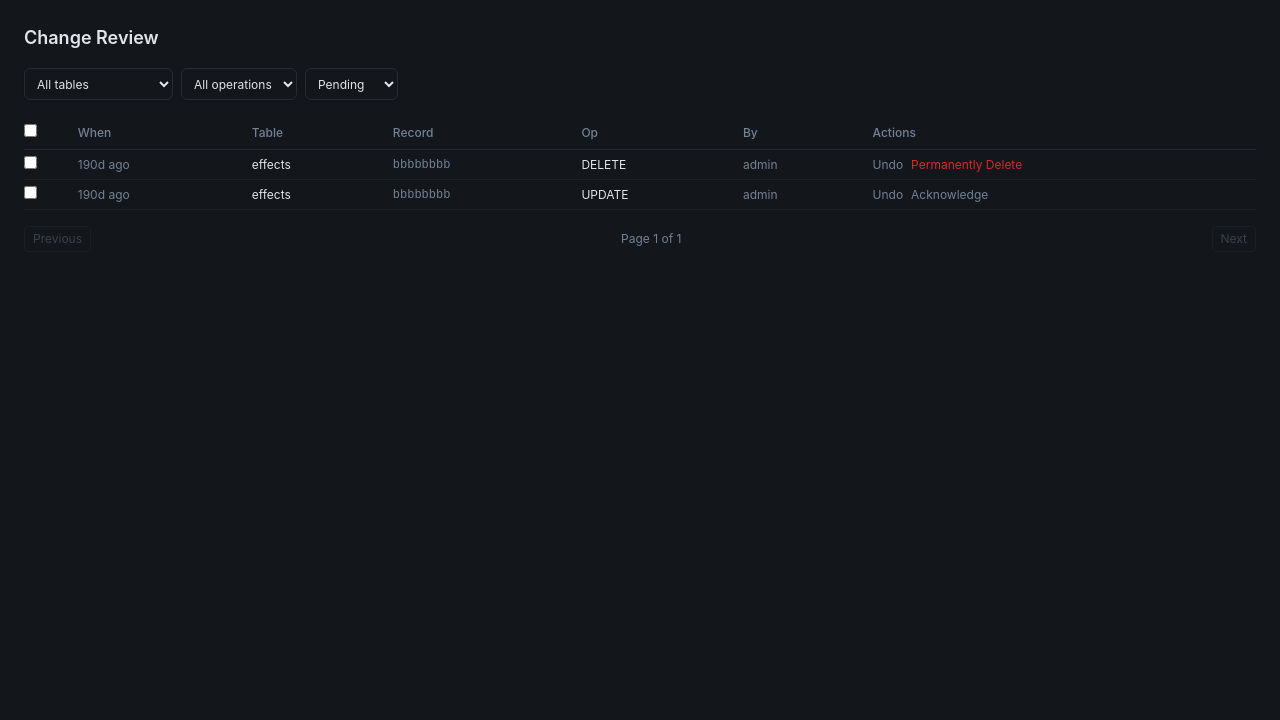
Test case: ChangeReviewPage › diff modal can be closed
The image size is (1280, 720).
What coordinates should you click on to do the following:
click the row "190d ago effects bbbbbbbb UPDATE admin Undo Acknowledge"
I would click on:
 (640, 194)
Its box is [24, 180, 1256, 210].
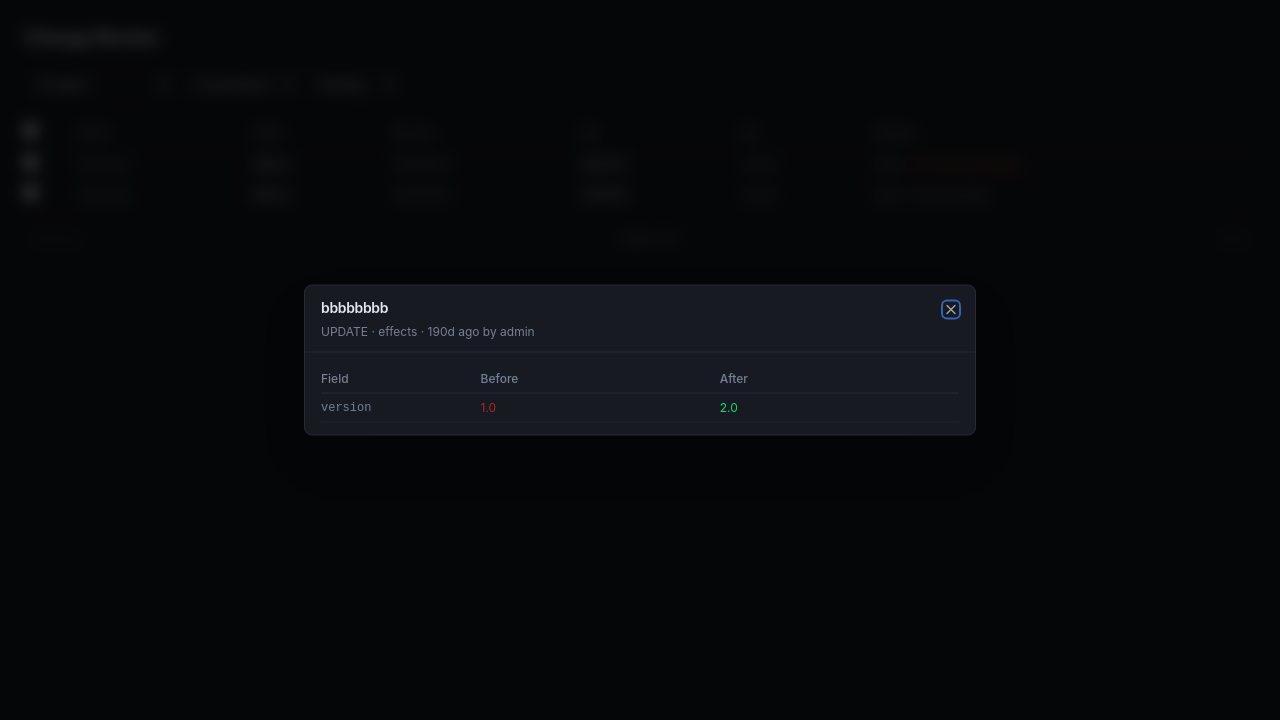
Result: the column heading "Before" is shown at [480, 364, 720, 393]
What coordinates should you click on to do the following:
click the button named "Close"
I would click on:
 (951, 310)
Its box is [943, 302, 959, 318].
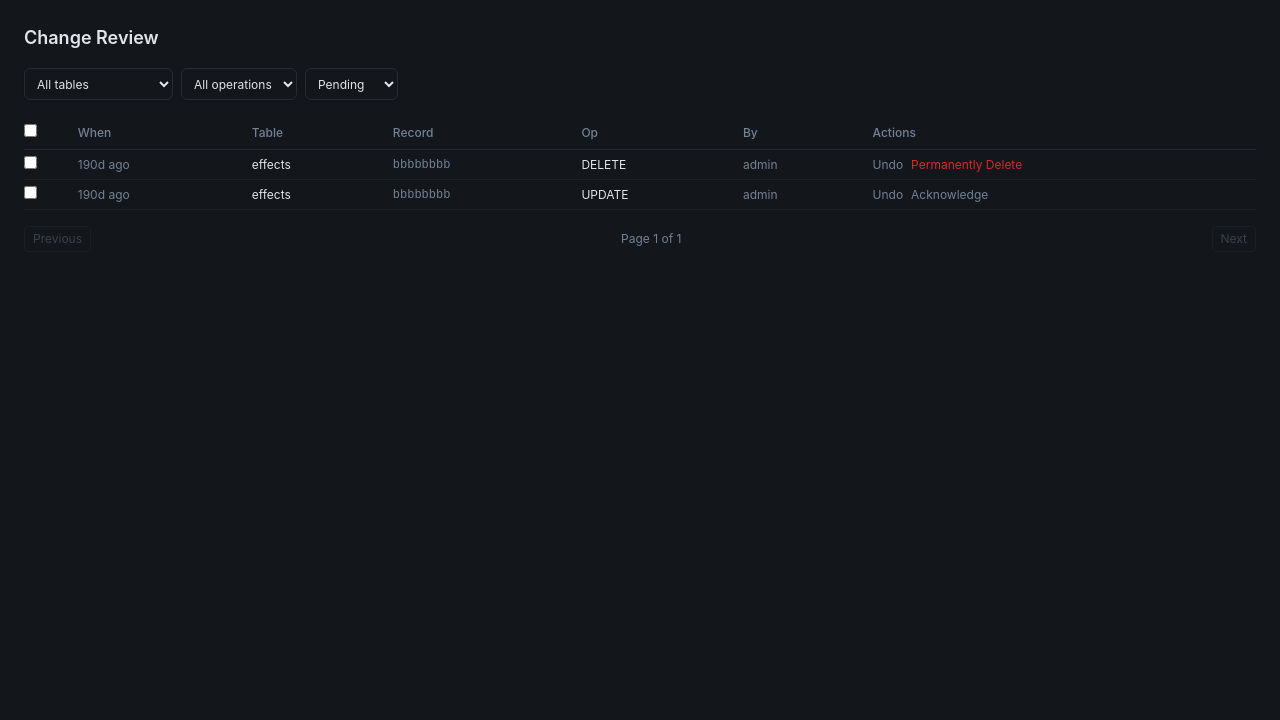
Result: the column heading "Before" is gone
